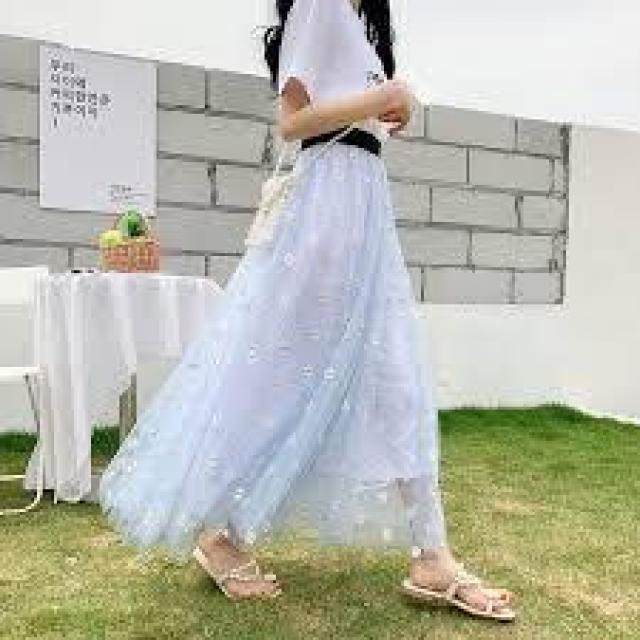Tshirt: (250, 5, 421, 150)
skirt: (118, 134, 468, 563)
